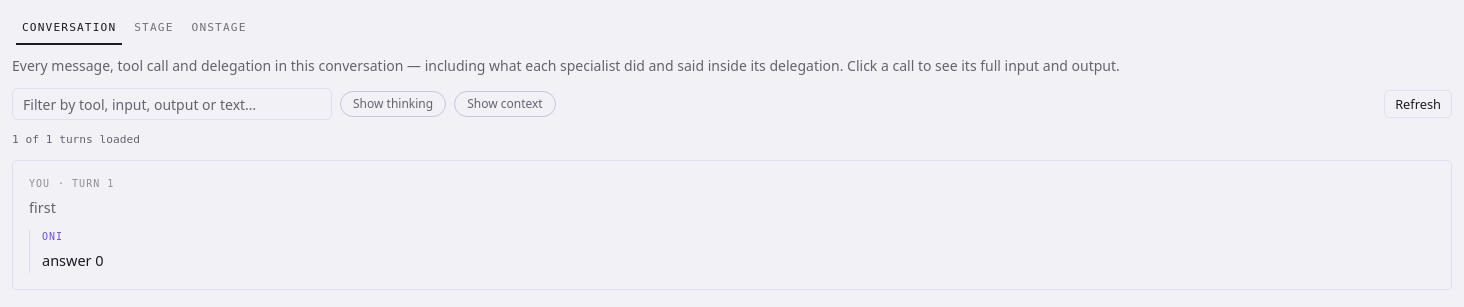
Test: HistoryPanel conversation › refetches when Refresh is clicked
Check: the text "first" is shown, box top-left (29, 197), bottom-right (56, 217)
Click the button "Refresh" at (1418, 104), box top-left (1384, 90), bottom-right (1452, 118)
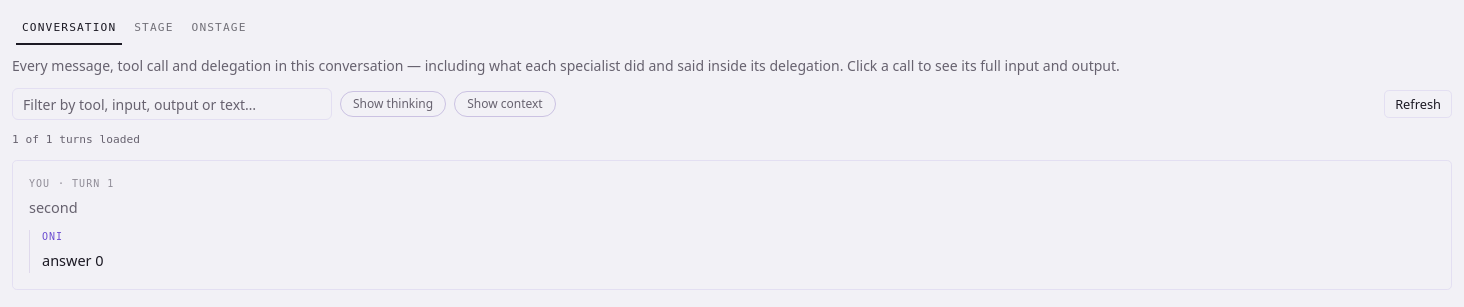
Check: the text "second" is shown, box top-left (29, 197), bottom-right (78, 217)
